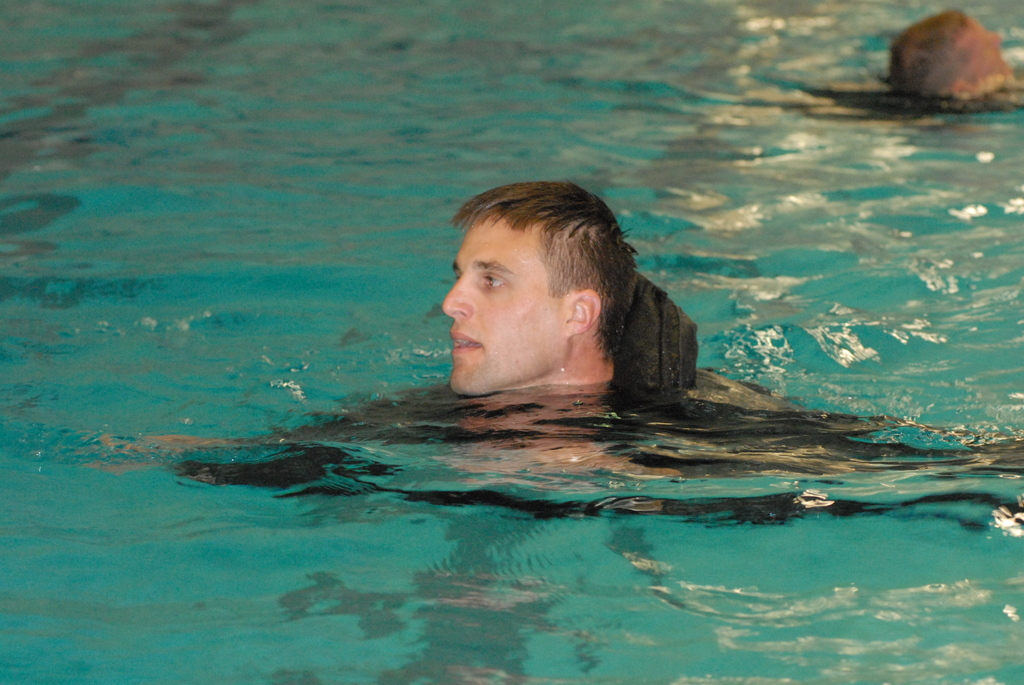Person: (73, 177, 1024, 521), (887, 6, 1015, 99)
